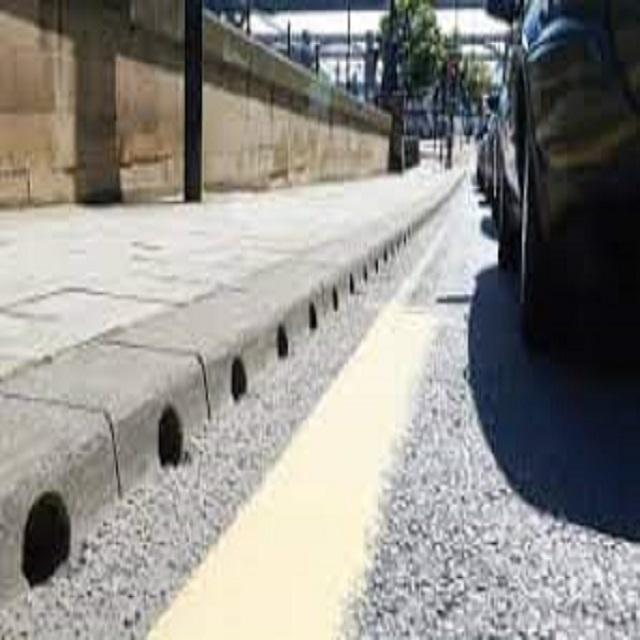curb: (7, 325, 224, 606), (222, 257, 350, 422), (332, 191, 438, 297)
